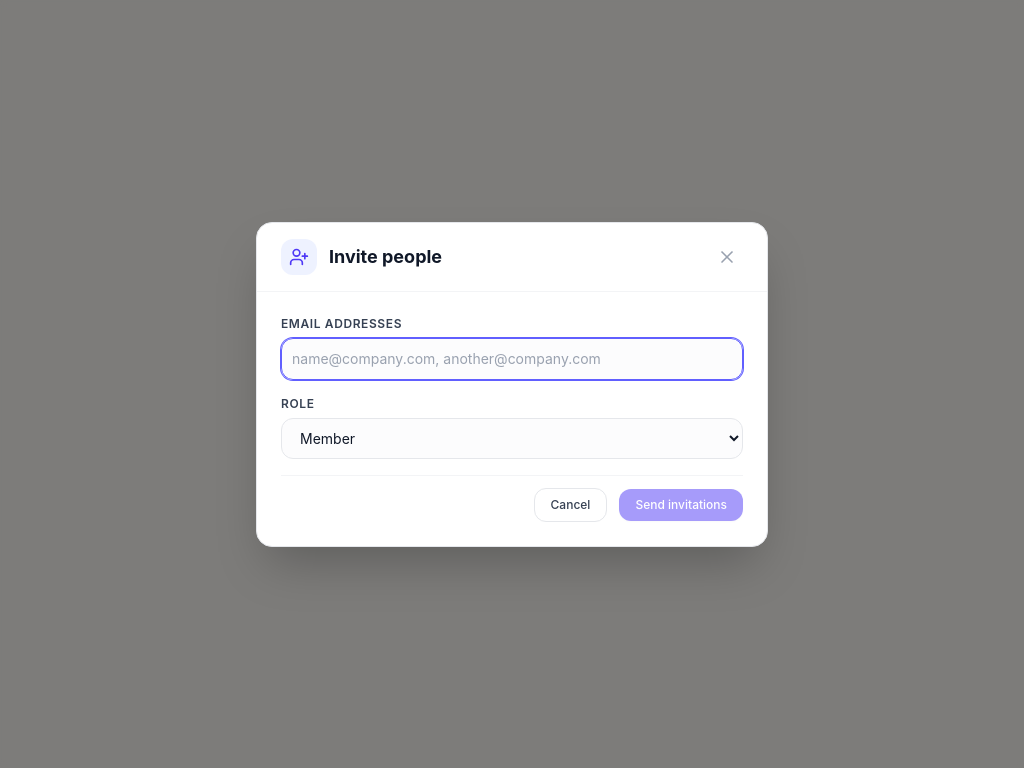
Scenario: InviteMembersModal › turns a pasted list into chips, without duplicates
In the field labelled "Email addresses": (512,358) [292,346,732,370], type "a@x.com, b@x.com; A@x.com"
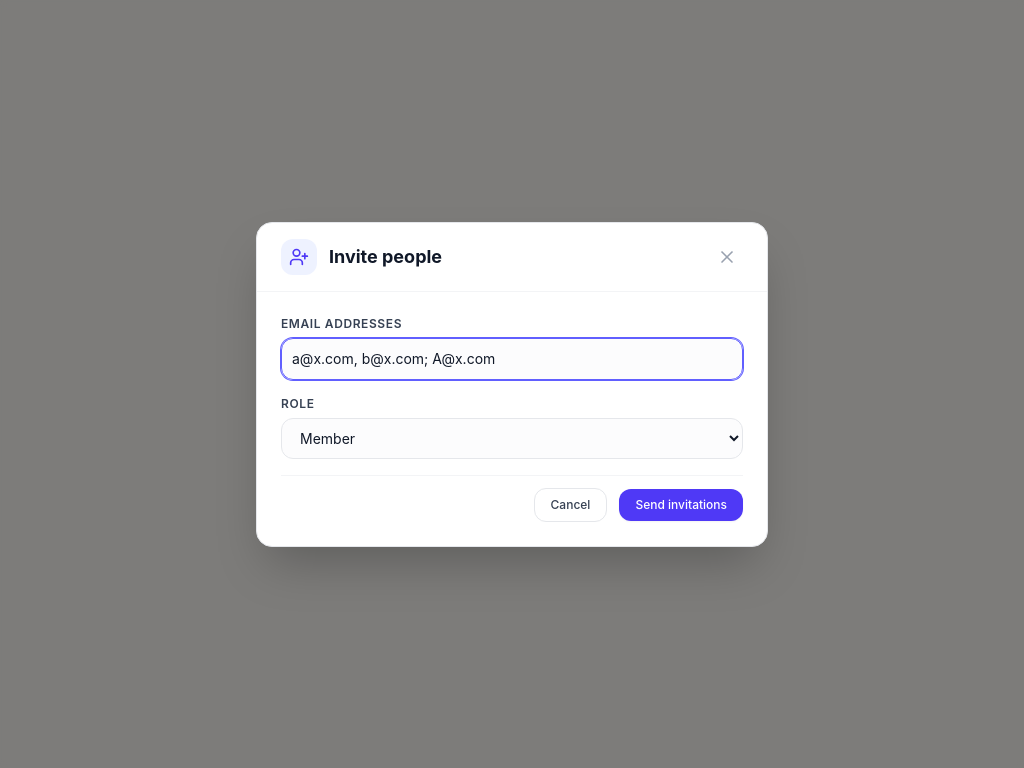
Press Enter in the field labelled "Email addresses", box [292,346,732,370]
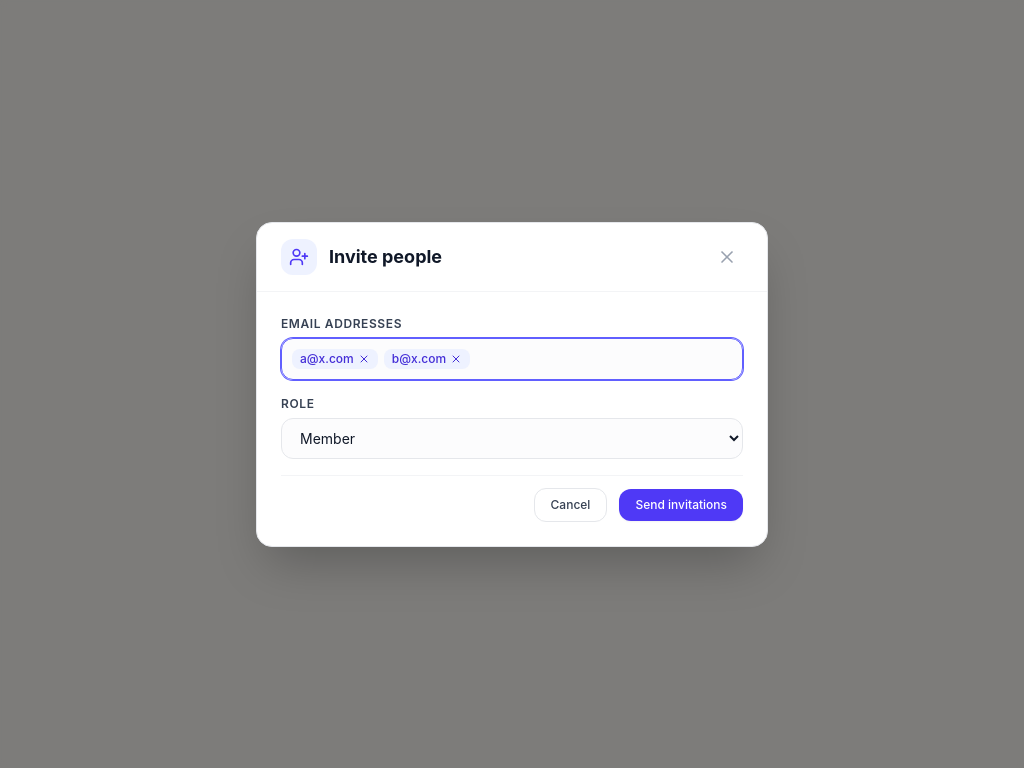
Now the button named "Remove a@x.com" is shown, box [358,352,370,364]
Now the button named "Remove b@x.com" is shown, box [450,352,462,364]
Now the number of buttons named "Remove " is 2, box [358,352,370,364]; [450,352,462,364]
